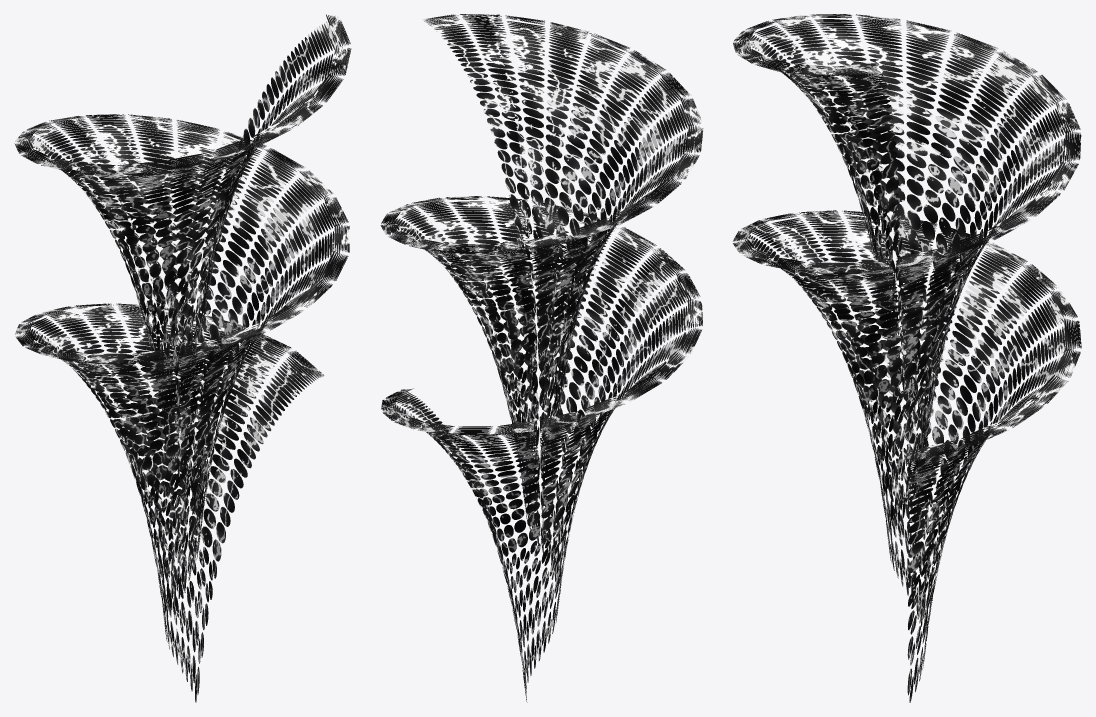
File: spiral4.gltf
3 renders of one model, left to right at view 1: azimuth 30°, elevation 25°; view 2: azimuth 150°, elevation 25°; view 3: azimuth 270°, elevation 25°, orthographic. The views are drawn at different scales.
Parts seen in each view (by area): view 1: Obj_000001; view 2: Obj_000001; view 3: Obj_000001.
Boxes of the visible parts, x1=… form: Obj_000001: x1=14, y1=14, x2=351, y2=702; Obj_000001: x1=380, y1=14, x2=703, y2=702; Obj_000001: x1=733, y1=14, x2=1081, y2=702.
Size of the model in its own units: 4.59 by 10.12 by 4.59.
Materials: 1 (1 with a texture image).
